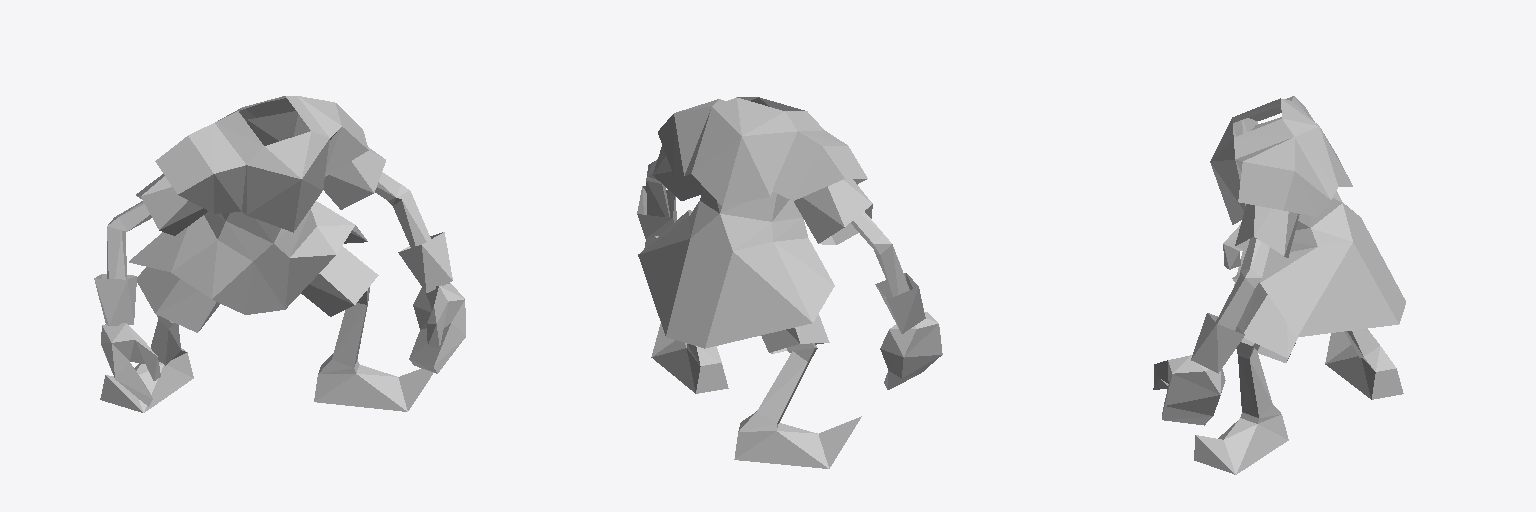
Rendered from body.obj.
3 views of the same model, side by side, from view 1: azimuth 30°, elevation 25°; view 2: azimuth 150°, elevation 25°; view 3: azimuth 270°, elevation 25° (orthographic).
Parts seen in each view (by area): view 1: SK:polySurface2978 SK:polySurface3125 polySurface656, SK:polySurface2978 SK:polySurface3158 polySurface667, SK:polySurface2978 SK:polySurface3159 polySurface667, SK:polySurface2978 SK:polySurface3018 polySurface547, SK:polySurface2978 SK:polySurface3016 polySurface547, SK:polySurface2978 SK:polySurface3038 polySurface664, SK:polySurface2978 SK:polySurface3096 polySurface664, SK:polySurface2978 SK:polySurface3092 polySurface547, SK:polySurface2978 SK:polySurface3017 polySurface547, SK:polySurface2978 SK:polySurface3015 polySurface547, SK:polySurface2978 SK:polySurface3168 polySurface667, SK:polySurface2978 SK:polySurface3296 polySurface666 (+28 smaller); view 2: SK:polySurface2978 SK:polySurface3014 polySurface547, SK:polySurface2978 SK:polySurface3087 polySurface547, SK:polySurface2978 SK:polySurface2996 polySurface547, SK:polySurface2978 SK:polySurface2995 polySurface547, SK:polySurface2978 SK:polySurface3013 polySurface547, SK:polySurface2978 SK:polySurface3162 polySurface667, SK:polySurface2978 SK:polySurface3016 polySurface547, SK:polySurface2978 SK:polySurface3175 polySurface667, SK:polySurface2978 SK:polySurface3060 polySurface655, SK:polySurface2978 SK:polySurface3176 polySurface667, SK:polySurface2978 SK:polySurface3161 polySurface667, SK:polySurface2978 SK:polySurface3188 polySurface667 (+24 smaller); view 3: SK:polySurface2978 SK:polySurface3087 polySurface547, SK:polySurface2978 SK:polySurface3089 polySurface547, SK:polySurface2978 SK:polySurface3094 polySurface664, SK:polySurface2978 SK:polySurface3086 polySurface547, SK:polySurface2978 SK:polySurface3212 polySurface667, SK:polySurface2978 SK:polySurface3191 polySurface666, SK:polySurface2978 SK:polySurface3121 polySurface656, SK:polySurface2978 SK:polySurface3210 polySurface667, SK:polySurface2978 SK:polySurface3185 polySurface667, SK:polySurface2978 SK:polySurface2996 polySurface547, SK:polySurface2978 SK:polySurface3161 polySurface667, SK:polySurface2978 SK:polySurface3273 polySurface654 (+15 smaller).
Boxes of the visible parts, box(x1,y1,x2,y2) form: SK:polySurface2978 SK:polySurface3125 polySurface656: box(315, 374, 406, 411); SK:polySurface2978 SK:polySurface3158 polySurface667: box(247, 165, 301, 214); SK:polySurface2978 SK:polySurface3159 polySurface667: box(247, 180, 301, 232); SK:polySurface2978 SK:polySurface3018 polySurface547: box(171, 240, 217, 298); SK:polySurface2978 SK:polySurface3016 polySurface547: box(129, 227, 187, 271); SK:polySurface2978 SK:polySurface3038 polySurface664: box(156, 291, 215, 332); SK:polySurface2978 SK:polySurface3096 polySurface664: box(319, 263, 378, 304); SK:polySurface2978 SK:polySurface3092 polySurface547: box(285, 255, 335, 309); SK:polySurface2978 SK:polySurface3017 polySurface547: box(212, 240, 252, 298); SK:polySurface2978 SK:polySurface3015 polySurface547: box(171, 215, 217, 271); SK:polySurface2978 SK:polySurface3168 polySurface667: box(265, 131, 310, 178); SK:polySurface2978 SK:polySurface3296 polySurface666: box(141, 187, 187, 229); SK:polySurface2978 SK:polySurface3014 polySurface547: box(705, 252, 811, 348); SK:polySurface2978 SK:polySurface3087 polySurface547: box(638, 239, 689, 335); SK:polySurface2978 SK:polySurface2996 polySurface547: box(690, 239, 732, 346); SK:polySurface2978 SK:polySurface2995 polySurface547: box(666, 240, 704, 348); SK:polySurface2978 SK:polySurface3013 polySurface547: box(733, 242, 812, 322); SK:polySurface2978 SK:polySurface3162 polySurface667: box(742, 131, 797, 196); SK:polySurface2978 SK:polySurface3016 polySurface547: box(774, 243, 834, 321); SK:polySurface2978 SK:polySurface3175 polySurface667: box(723, 137, 769, 206); SK:polySurface2978 SK:polySurface3060 polySurface655: box(735, 431, 827, 468); SK:polySurface2978 SK:polySurface3176 polySurface667: box(692, 136, 741, 206); SK:polySurface2978 SK:polySurface3161 polySurface667: box(691, 107, 740, 173); SK:polySurface2978 SK:polySurface3188 polySurface667: box(674, 106, 711, 175); SK:polySurface2978 SK:polySurface3087 polySurface547: box(1298, 243, 1398, 336); SK:polySurface2978 SK:polySurface3089 polySurface547: box(1260, 247, 1317, 336); SK:polySurface2978 SK:polySurface3094 polySurface664: box(1244, 295, 1287, 357); SK:polySurface2978 SK:polySurface3086 polySurface547: box(1298, 242, 1352, 334); SK:polySurface2978 SK:polySurface3212 polySurface667: box(1243, 162, 1294, 209); SK:polySurface2978 SK:polySurface3191 polySurface666: box(1254, 209, 1288, 255); SK:polySurface2978 SK:polySurface3121 polySurface656: box(1236, 424, 1288, 474); SK:polySurface2978 SK:polySurface3210 polySurface667: box(1238, 163, 1282, 209); SK:polySurface2978 SK:polySurface3185 polySurface667: box(1243, 137, 1294, 170); SK:polySurface2978 SK:polySurface2996 polySurface547: box(1353, 218, 1405, 300); SK:polySurface2978 SK:polySurface3161 polySurface667: box(1295, 126, 1338, 186); SK:polySurface2978 SK:polySurface3273 polySurface654: box(1165, 374, 1219, 405).
Bounding box in the file's own units: 0.74 × 0.6819 × 0.5142.